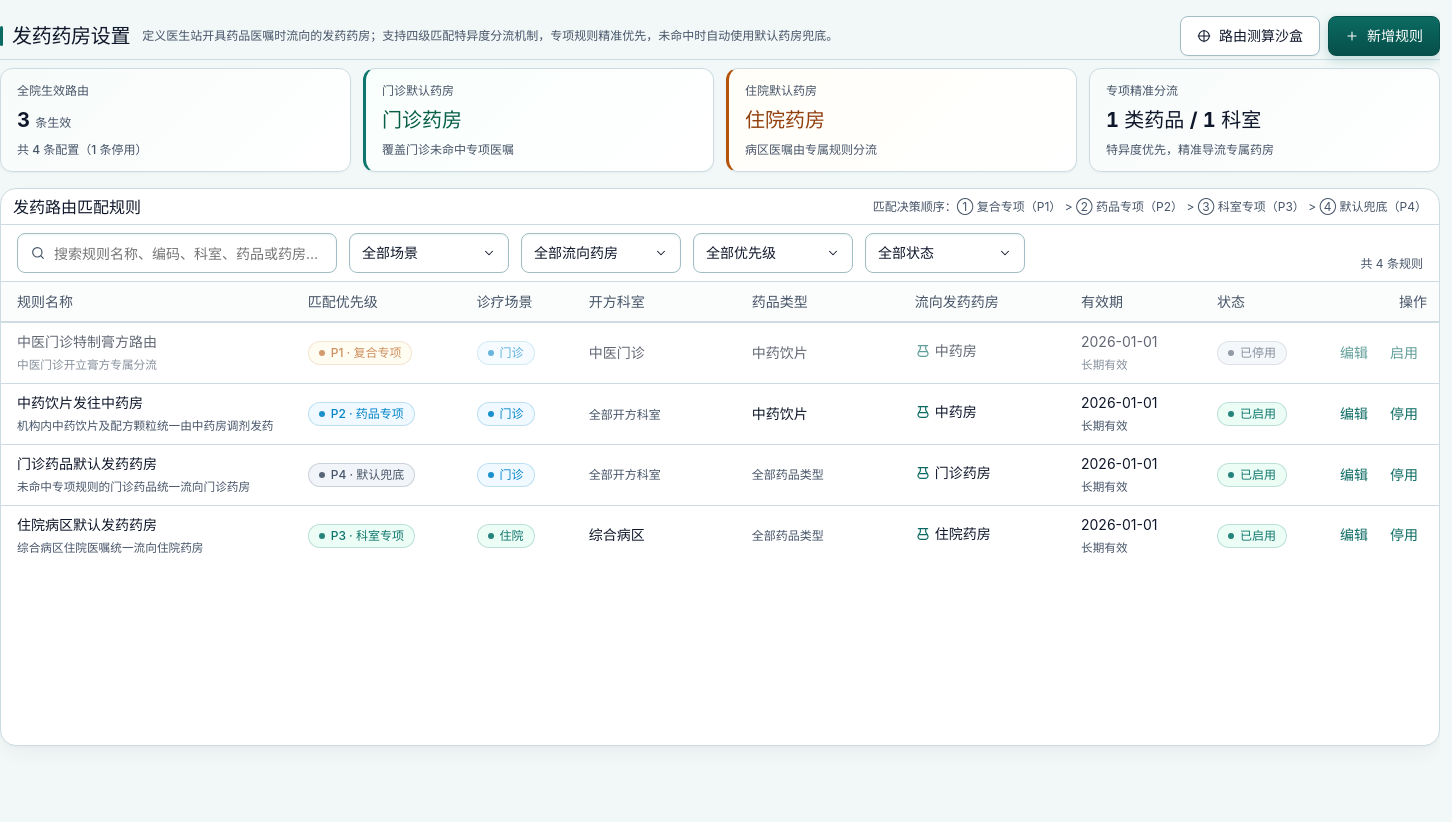
Test case: DispenseRouteSettings › filters rules dynamically by search keyword and care setting
The width and height of the screenshot is (1452, 822).
Check: the text "住院病区默认发药药房" is shown, box [17, 514, 157, 536]
Note: Search by keyword "中药"
Type "中药" into the search field with placeholder "搜索规则名称、编码、科室、药品或药房…" at point(189, 253), box [54, 234, 324, 272]
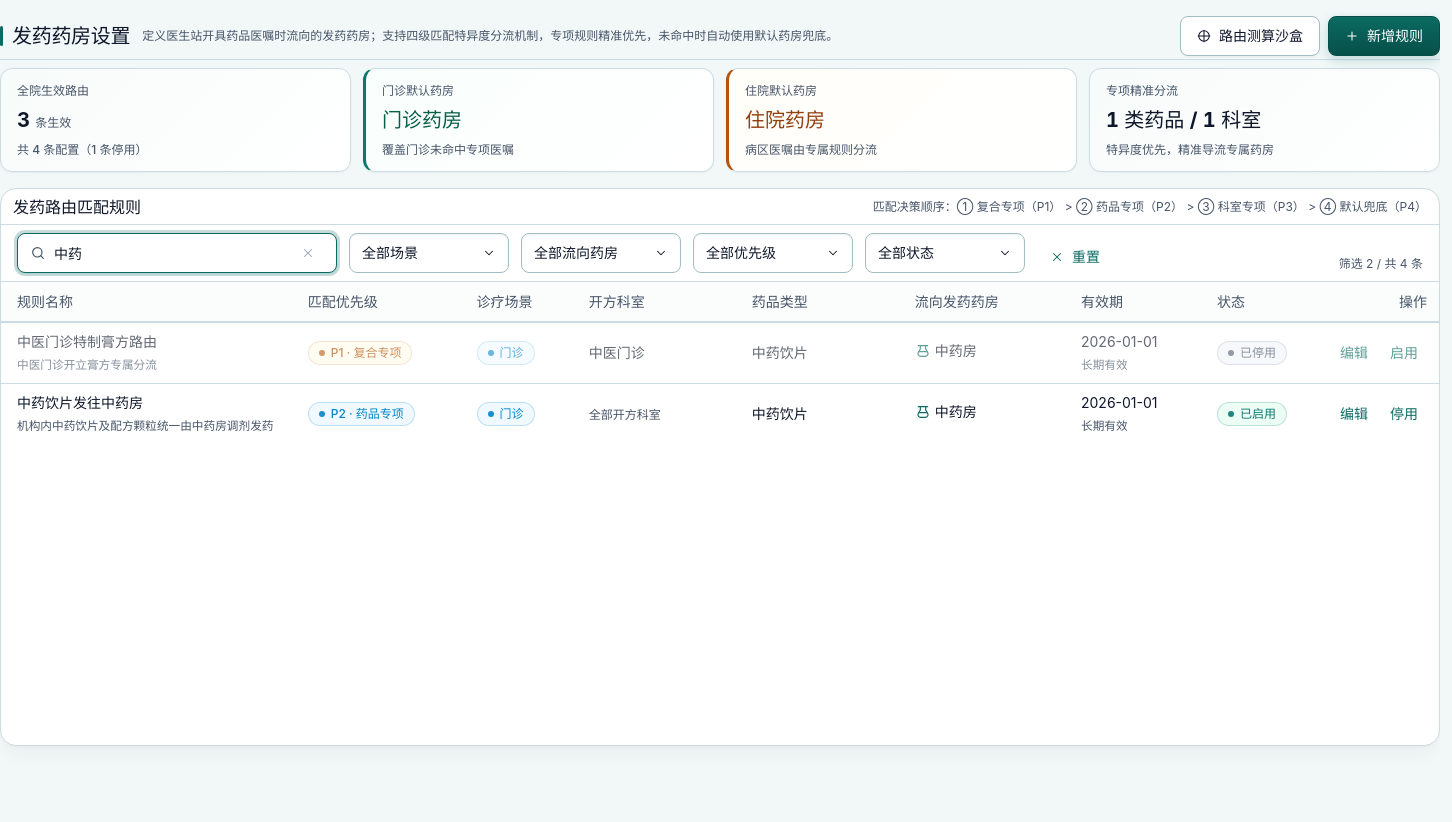
Check: the text "中药饮片发往中药房" is shown, box [17, 392, 143, 414]
Check: the text "住院病区默认发药药房" is gone
Note: Reset search
Clear the search field with placeholder "搜索规则名称、编码、科室、药品或药房…" at point(169, 253), box [54, 234, 284, 272]
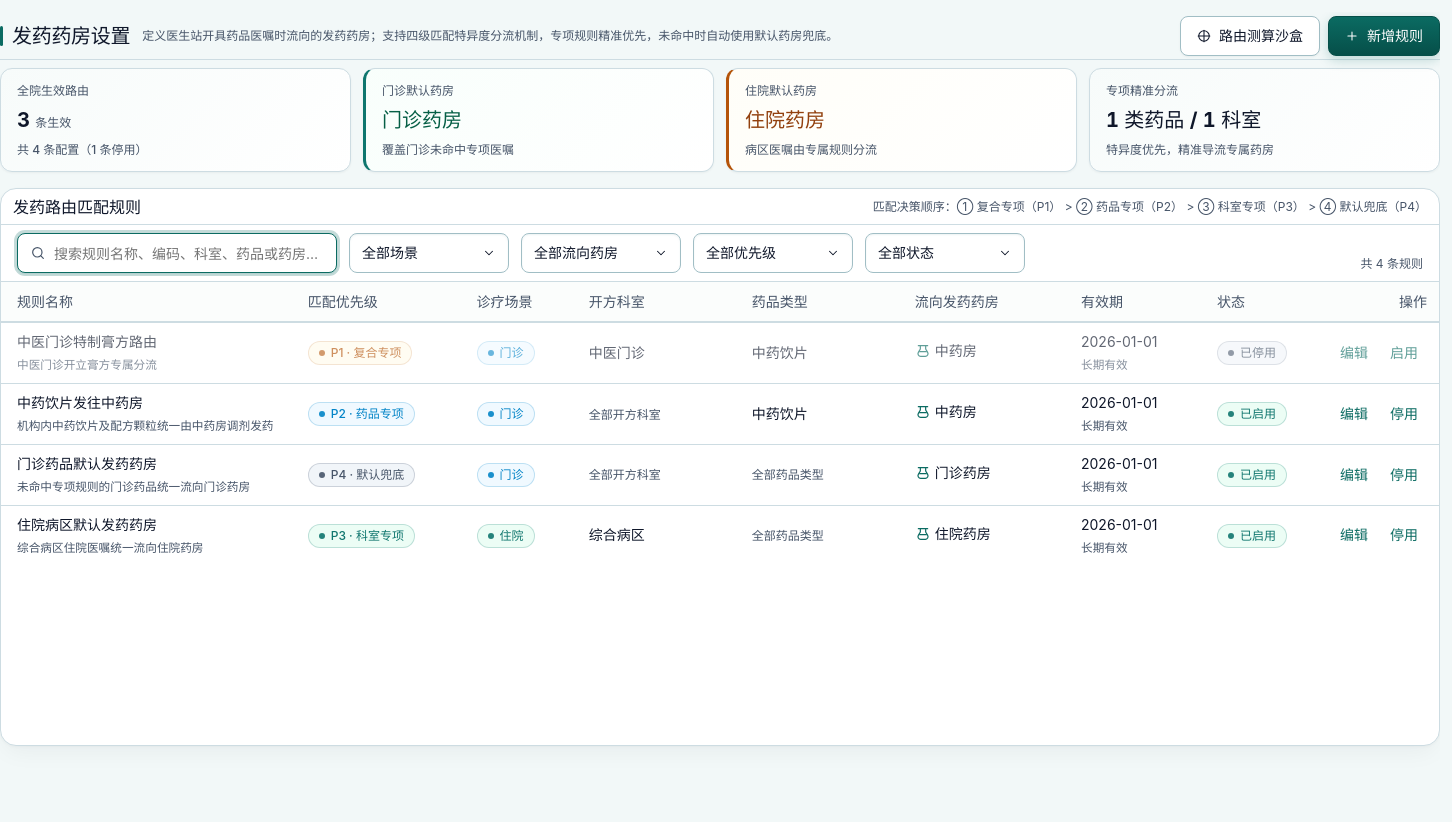
Check: the text "住院病区默认发药药房" is shown, box [17, 514, 157, 536]
